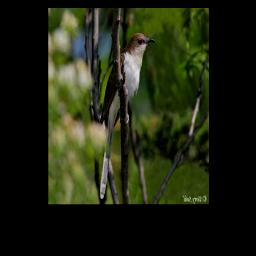Cuckoo: (99, 31, 157, 201)
